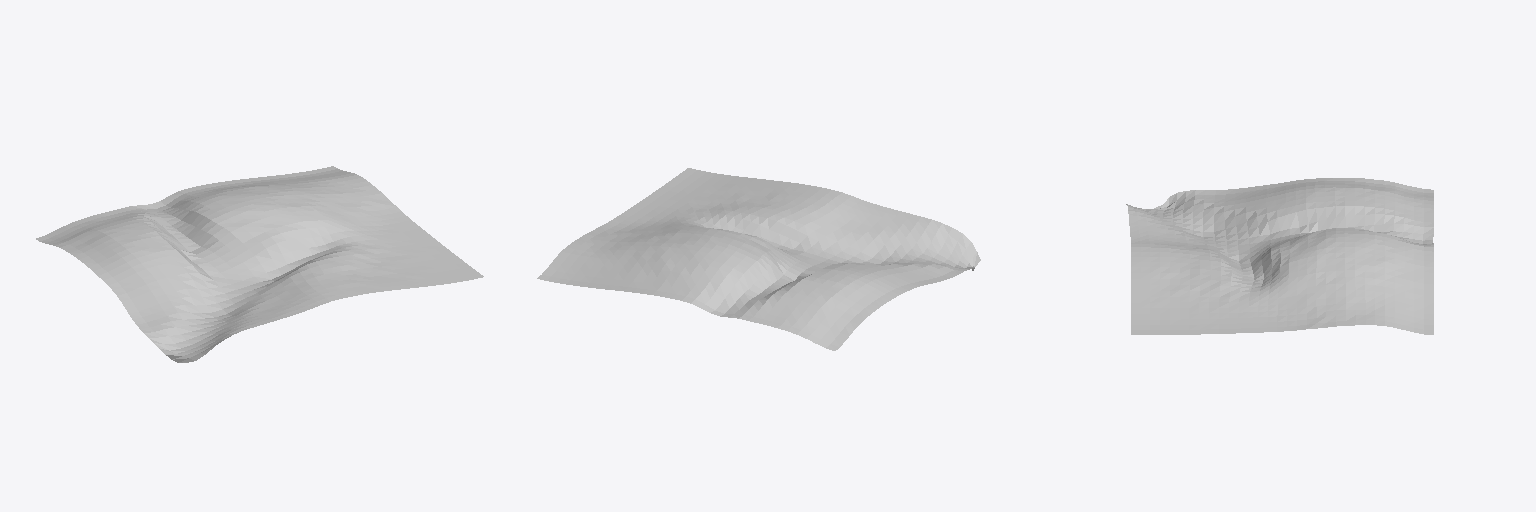
File: GroundMesh.OBJ
The picture shows the model from 3 angles: view 1: azimuth 30°, elevation 25°; view 2: azimuth 150°, elevation 25°; view 3: azimuth 270°, elevation 25°; orthographic projection.
Parts seen in each view (by area): view 1: Group14; view 2: Group14; view 3: Group14.
Part boxes in pixels (x1,y1,x2,y2): Group14: (36, 166, 483, 362); Group14: (537, 168, 980, 350); Group14: (1126, 178, 1433, 334).
Size of the model in its own units: 9.17 by 1.45 by 7.92.